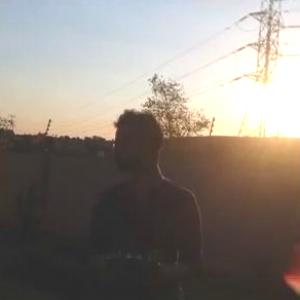follow: (74, 101, 202, 299)
